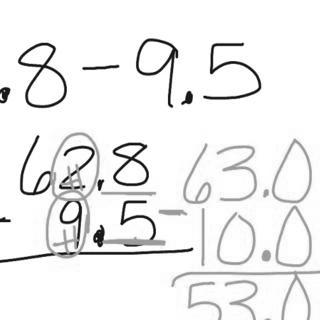.: (178, 84, 199, 112), (259, 245, 274, 265), (259, 181, 270, 202)
5: (202, 35, 281, 112)
8: (15, 42, 73, 113)
9: (132, 34, 179, 110)
